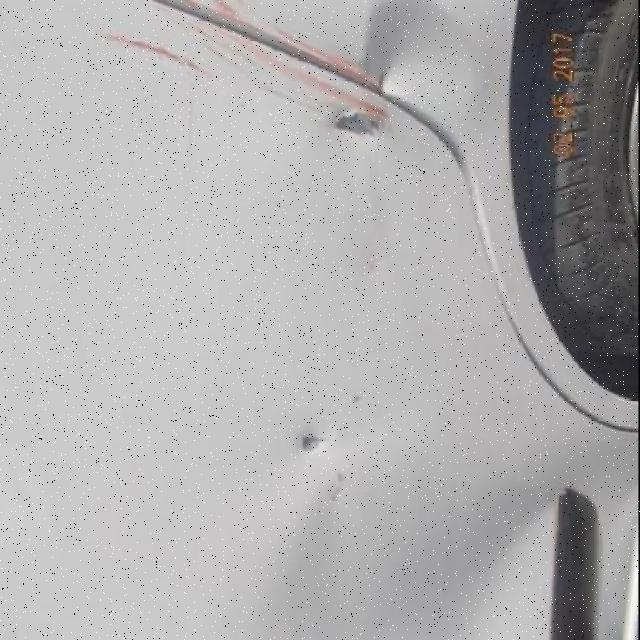damage: (156, 1, 400, 117), (94, 25, 216, 85), (332, 106, 396, 143), (320, 460, 364, 509), (297, 426, 336, 453), (363, 253, 387, 283), (350, 383, 373, 409)
